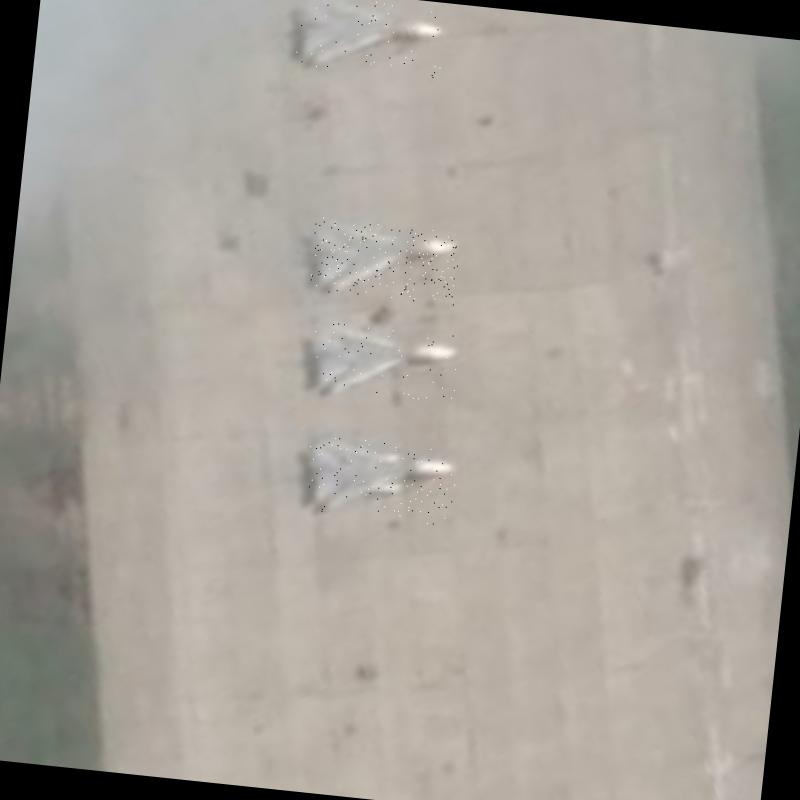A20: (304, 318, 464, 408), (302, 434, 458, 526), (308, 216, 461, 305), (292, 0, 446, 79)
